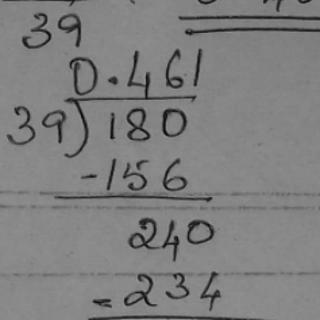.: (108, 72, 121, 88)
0: (69, 54, 100, 96), (160, 104, 190, 135), (185, 217, 216, 246)
1: (190, 45, 207, 91), (102, 156, 120, 192), (107, 108, 118, 144)
2: (122, 272, 158, 310), (130, 217, 159, 252)
3: (5, 104, 37, 148), (21, 12, 51, 51), (166, 273, 192, 302)
4: (123, 51, 155, 98), (198, 272, 224, 309), (163, 218, 182, 261)
5: (120, 157, 150, 192)
6: (162, 44, 186, 92), (162, 156, 189, 194)
8: (126, 106, 151, 141)
9: (54, 10, 84, 51), (42, 110, 71, 145)
